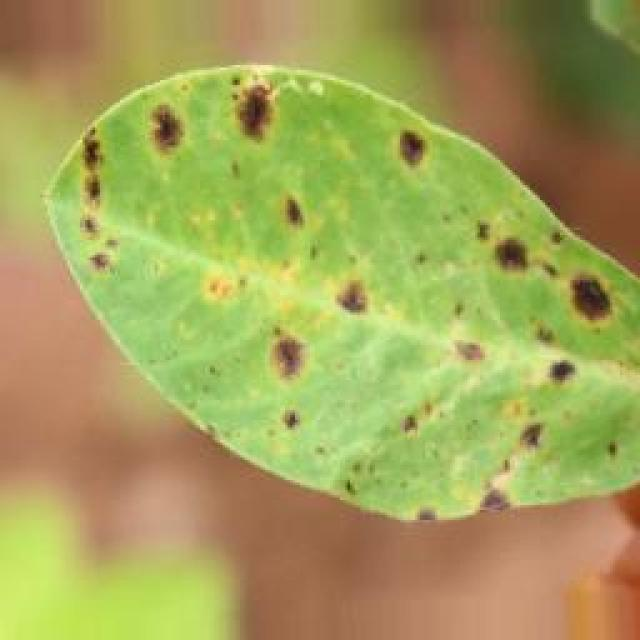Yellowish: (32, 55, 640, 523)
